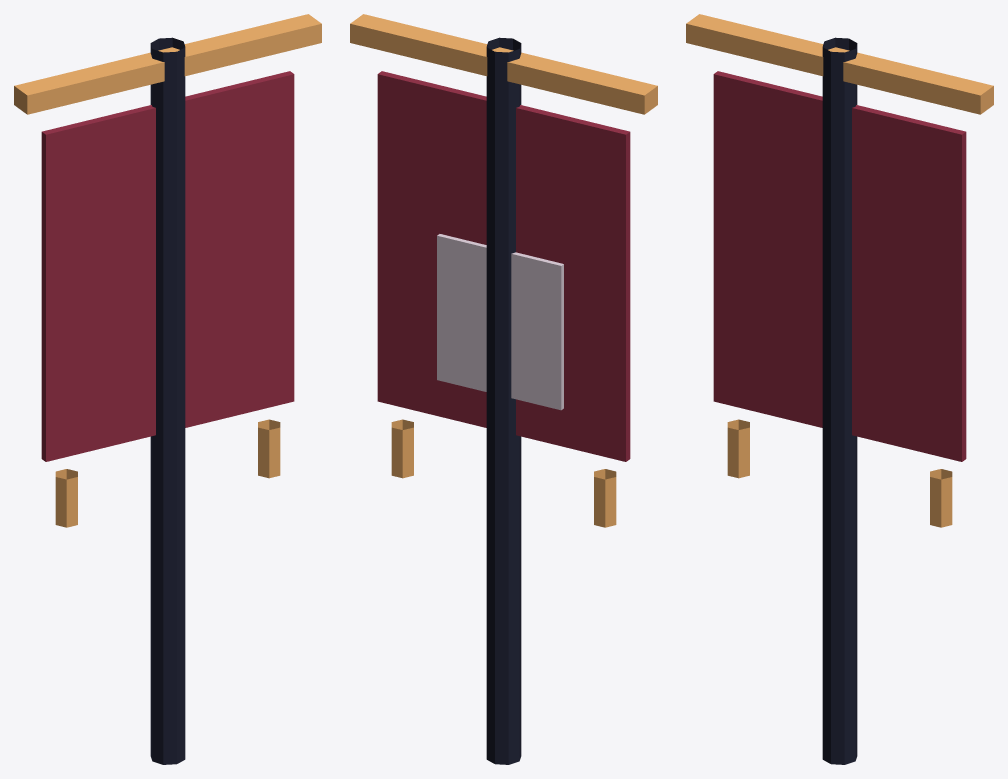
Rendered from dojo_clan_banner.obj.
3 renders of one model, left to right at view 1: azimuth 30°, elevation 25°; view 2: azimuth 150°, elevation 25°; view 3: azimuth 330°, elevation 25°, orthographic.
Parts seen in each view (by area): view 1: dojo_clan_banner; view 2: dojo_clan_banner; view 3: dojo_clan_banner.
Boxes of the visible parts, x1,y1,x2,y2 form: dojo_clan_banner: (14, 14, 321, 764); dojo_clan_banner: (350, 14, 657, 764); dojo_clan_banner: (686, 14, 993, 764).
Bounding box in the file's own units: 3.2 × 7.4 × 0.34.
